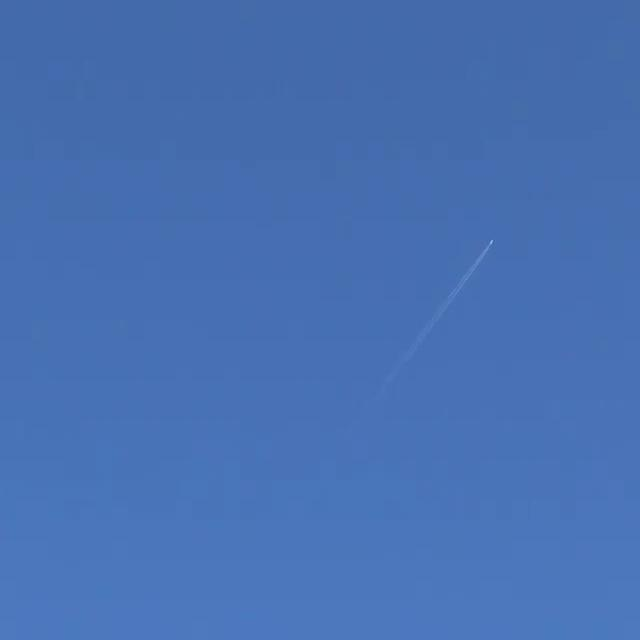AirPlane: (444, 230, 502, 312)
